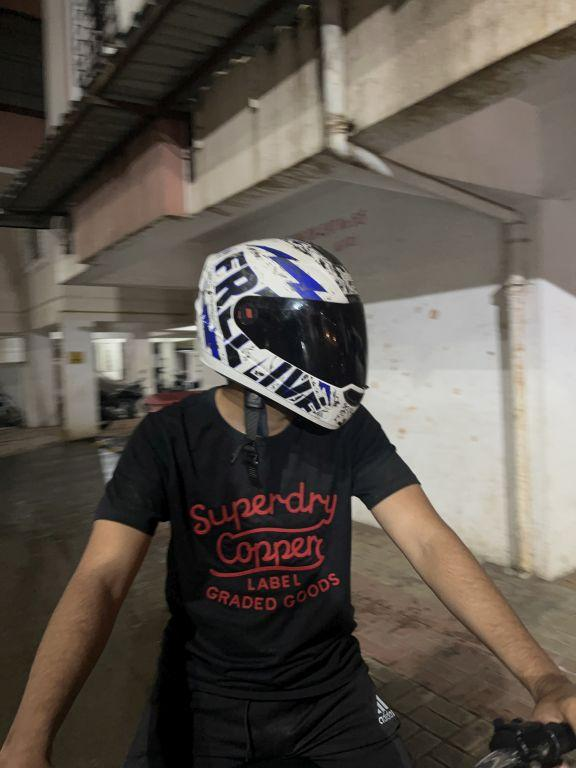helmet: (189, 227, 377, 441)
